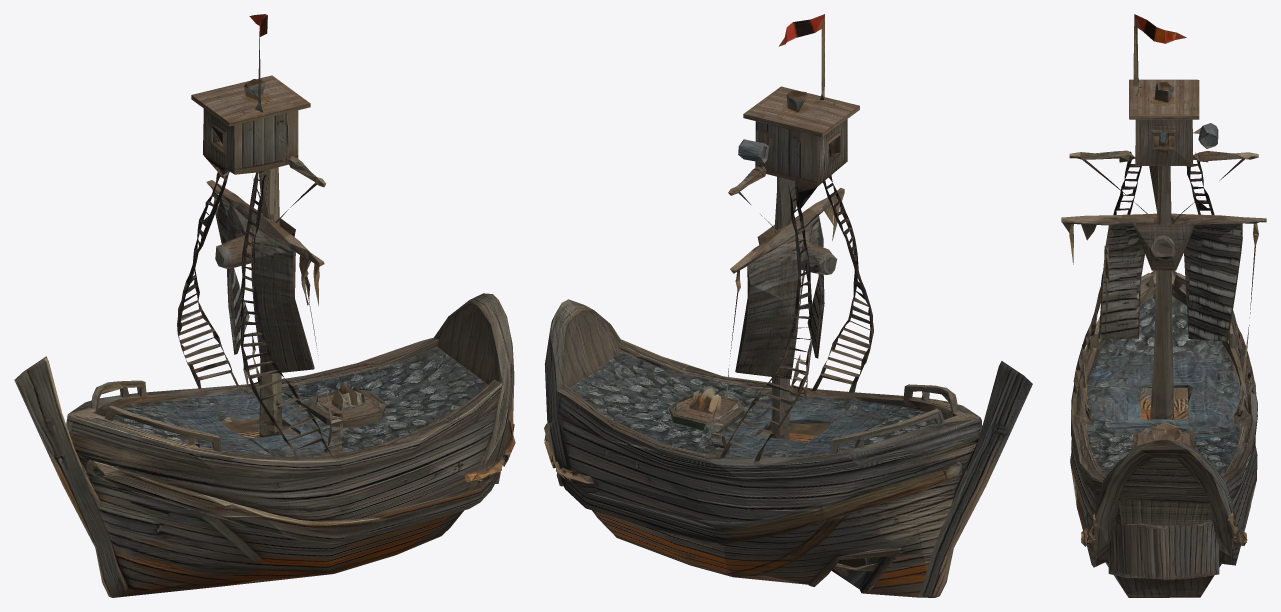
The model's file is home.glb.
The picture shows the model from 3 angles, left to right: view 1: azimuth 30°, elevation 25°; view 2: azimuth 150°, elevation 25°; view 3: azimuth 270°, elevation 25°; orthographic projection. The views are drawn at different scales.
Size of the model in its own units: 1.72 by 1.9 by 0.699.
Materials: 1 (1 with a texture image).
